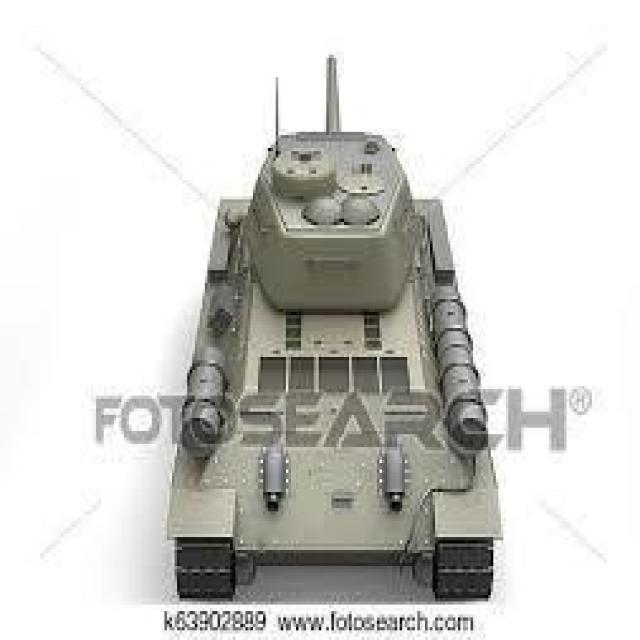MIL_MBT: (159, 32, 506, 624)
